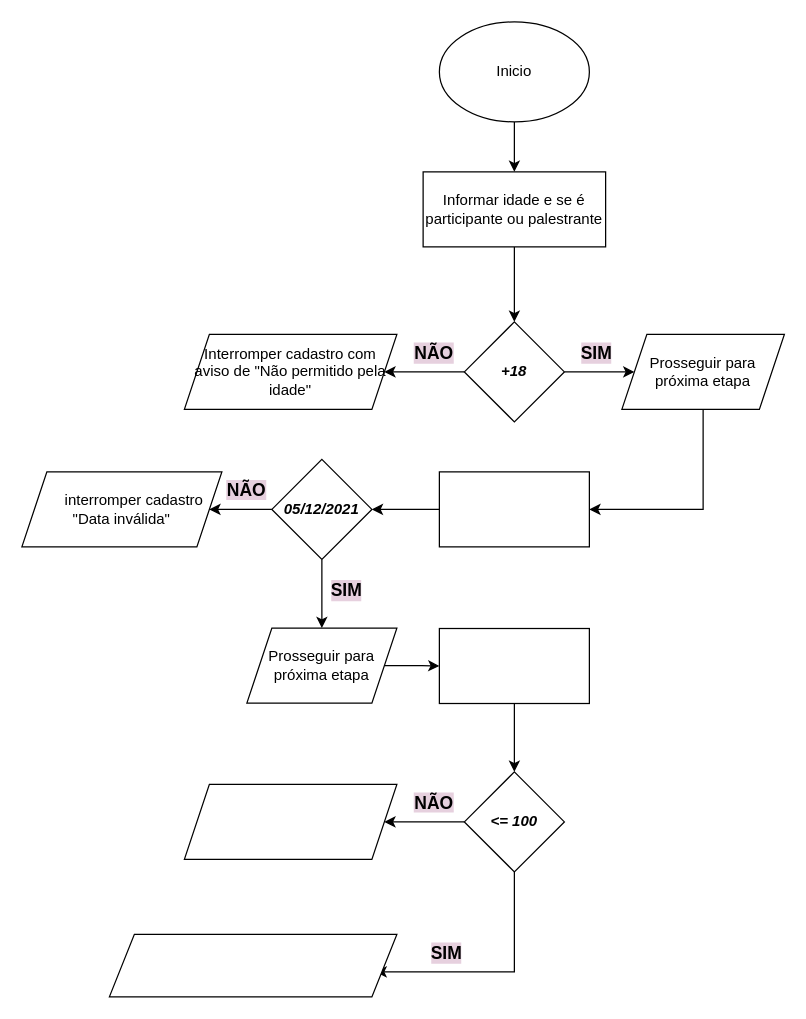
This 806x1019 diagram has some shape labels left out. Here are the shapes that lost their labels. From the top down, the centre of each, then its label:
point 513,509: Conferir se está dentro do prazo de inscrição
point 513,665: Conferir quantidade de participantes e palestrantes
point 290,821: Interromper cadastro "Quantidade de participantes excedida"
point 252,965: Finalizar cadastro e adicionar na lista
